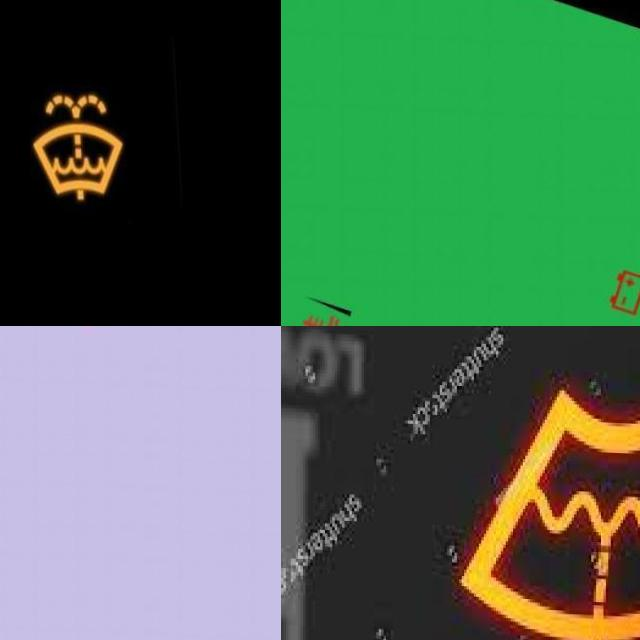Washer Fluid: (460, 378, 640, 640), (30, 89, 126, 202)
